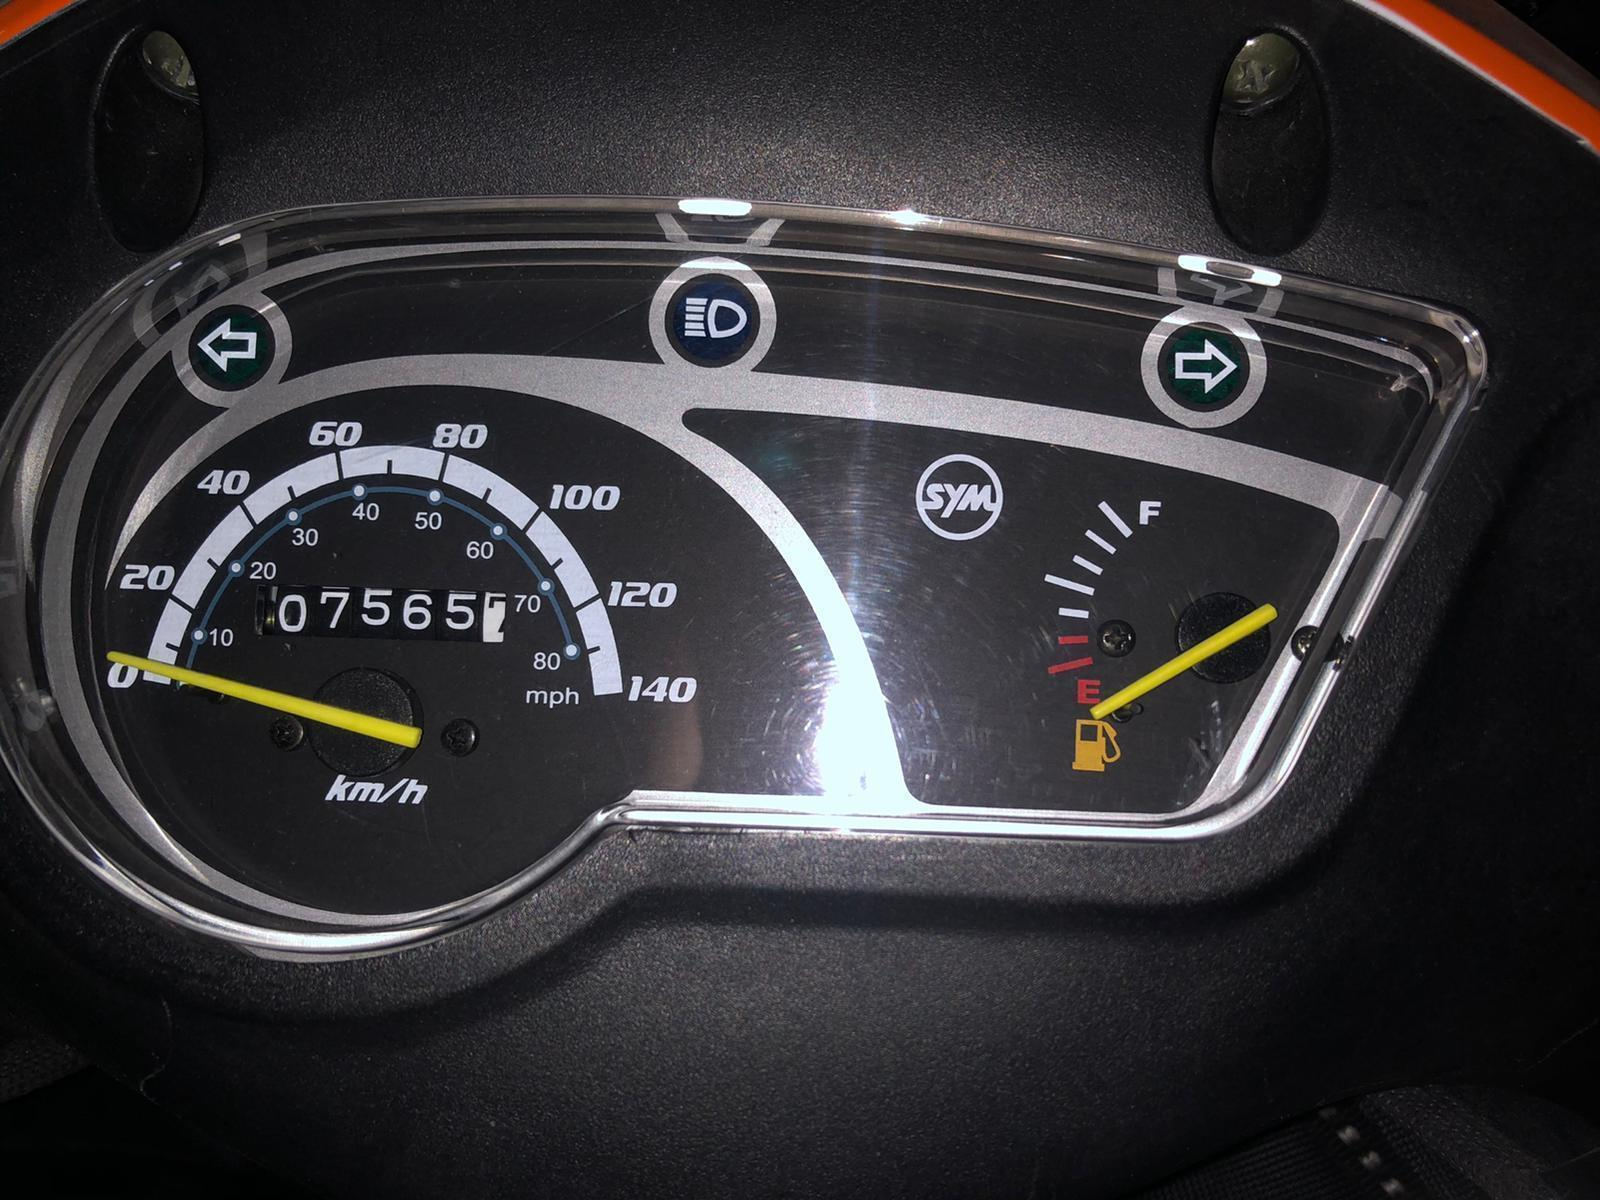0: (278, 590, 310, 633)
5: (443, 590, 476, 637), (358, 586, 392, 626)
6: (402, 589, 433, 632)
7: (319, 586, 350, 628), (484, 590, 511, 637)
odometer: (262, 579, 517, 654)
